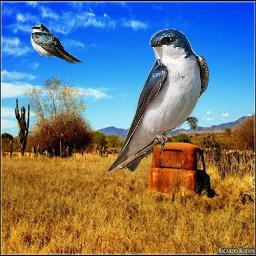Swallow: (107, 27, 210, 174), (30, 23, 82, 64)
